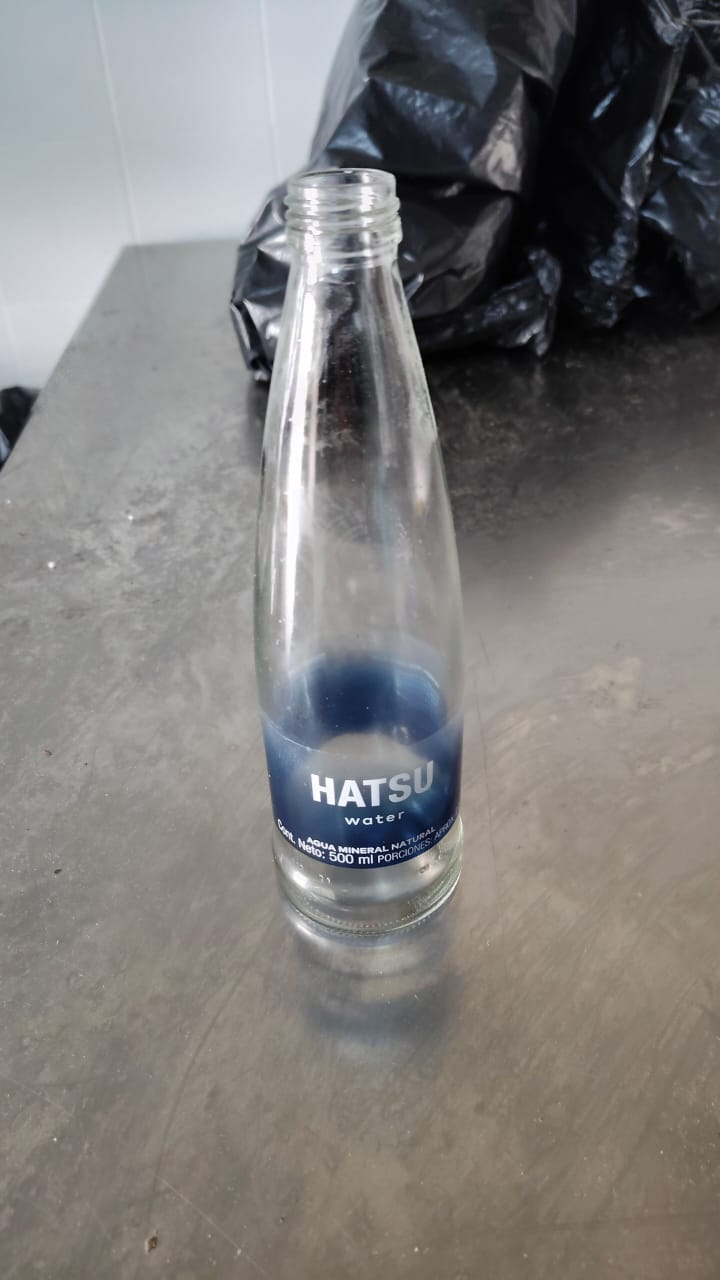Vidrio: (254, 168, 468, 937)
